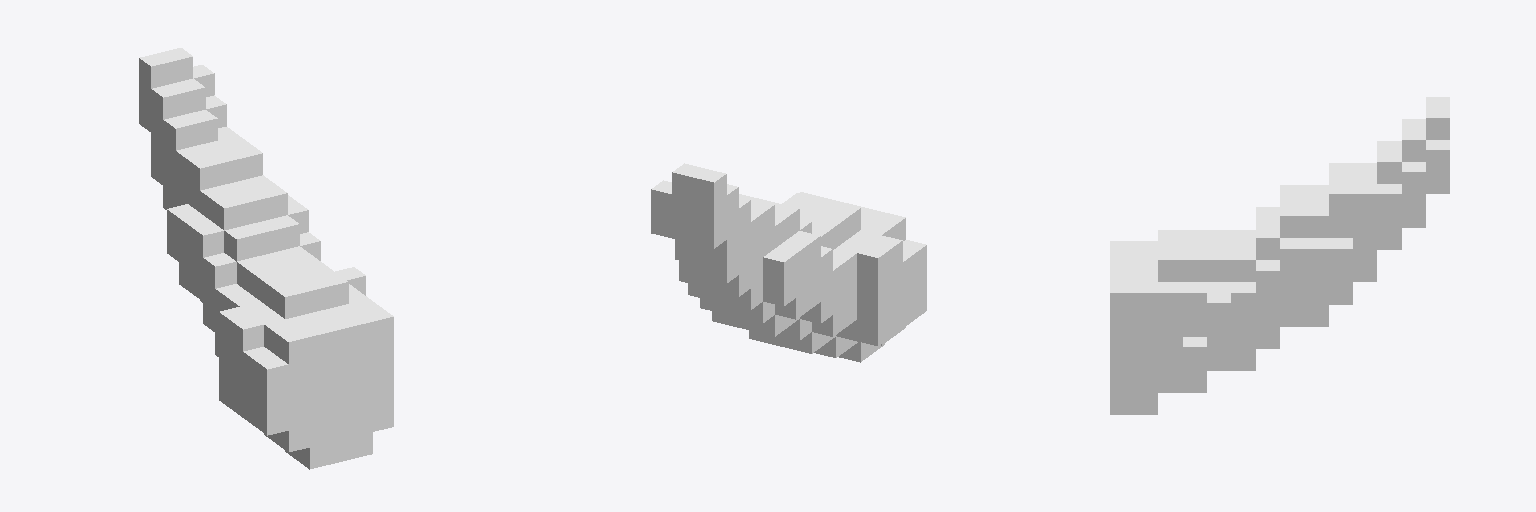
File: charmander-5.obj
The picture shows the model from 3 angles: view 1: azimuth 30°, elevation 25°; view 2: azimuth 150°, elevation 25°; view 3: azimuth 270°, elevation 25°; orthographic projection.
Visible parts, largest first — view 1: object 1; view 2: object 1; view 3: object 1.
Boxes of the visible parts, box(x1,y1,x2,y2) form: object 1: box(139, 48, 393, 469); object 1: box(651, 163, 926, 362); object 1: box(1110, 97, 1449, 414).
Bounding box in the file's own units: 0.7 × 1.3 × 1.4.